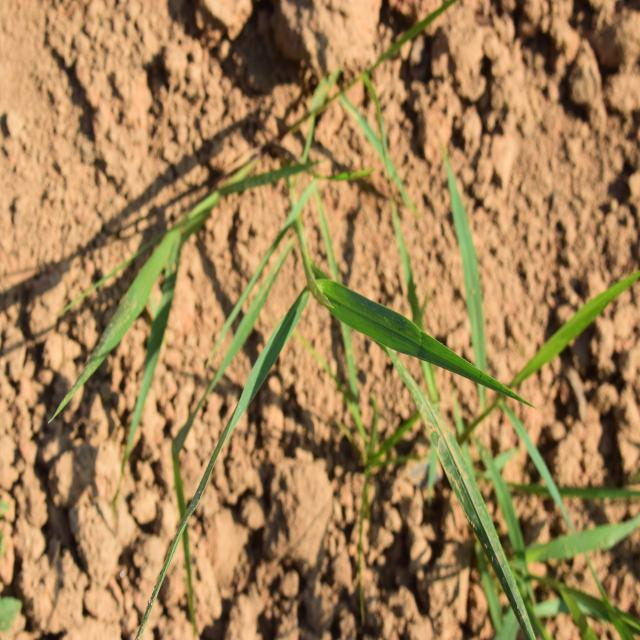green_foxtail: (88, 130, 481, 480)
